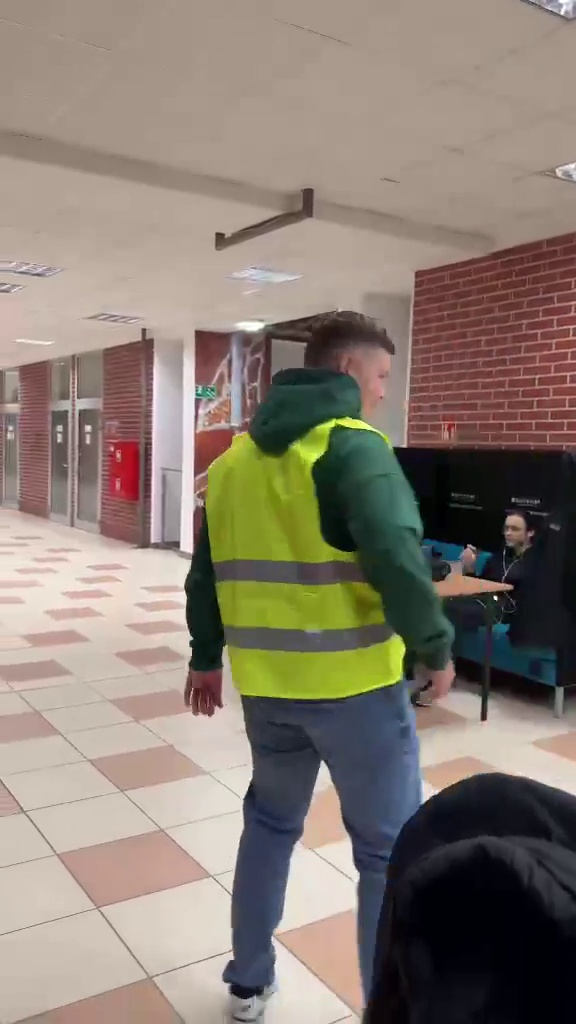no vest: (455, 500, 545, 615)
vest: (168, 294, 471, 1009)
